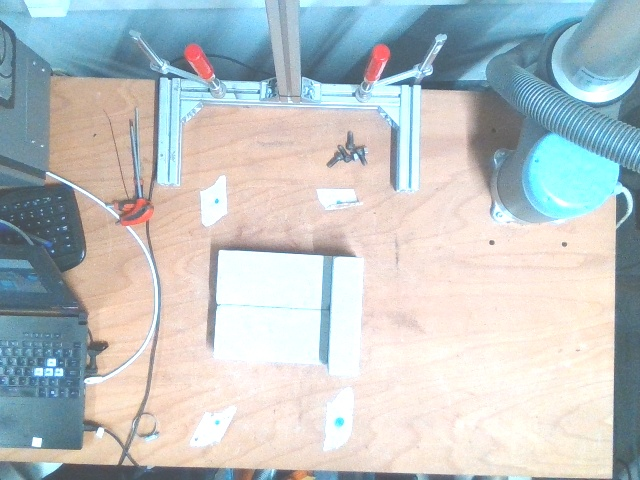brick-side: (327, 255, 365, 378)
